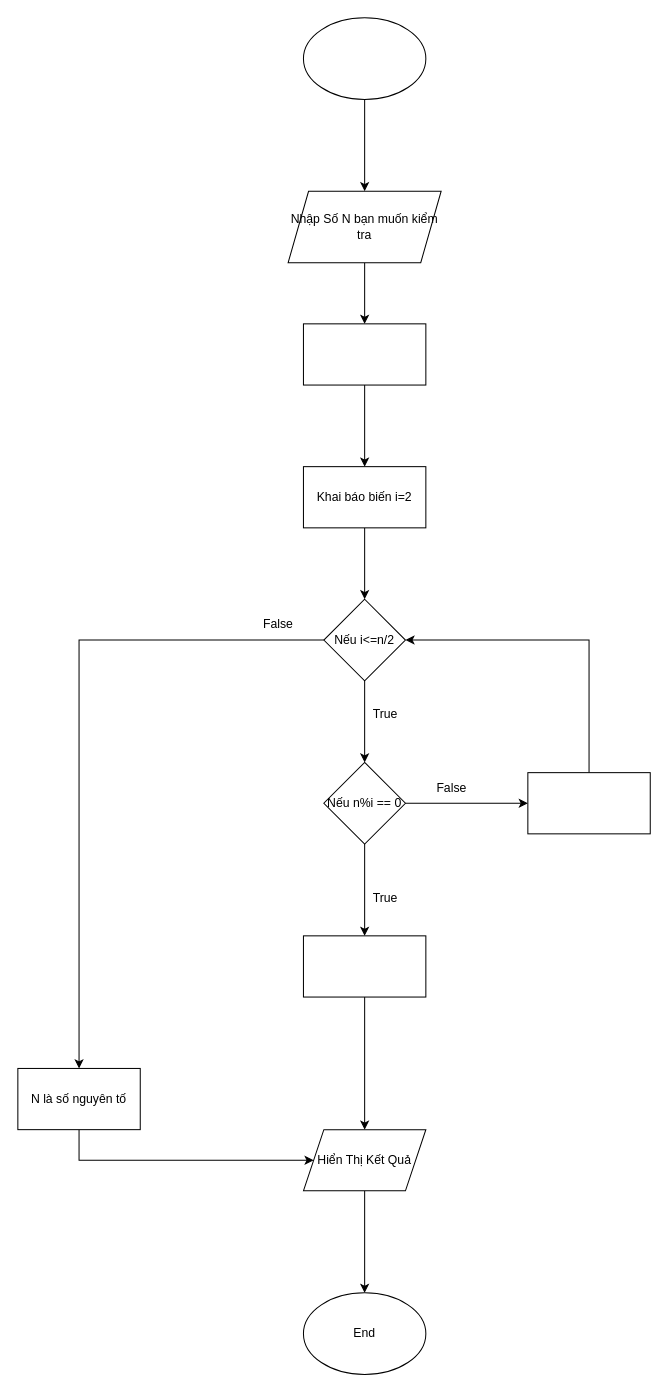
This 668x1392 diagram has some shape labels left out. The box of each missing label's shape, as (x1, y1, x2, y2) in pixels:
Dùng vòng lặp for: (302, 323, 426, 385)
N không phải số nguyên tố: (302, 935, 426, 997)
Start: (302, 17, 426, 99)
Tăng i++: (527, 772, 650, 834)
